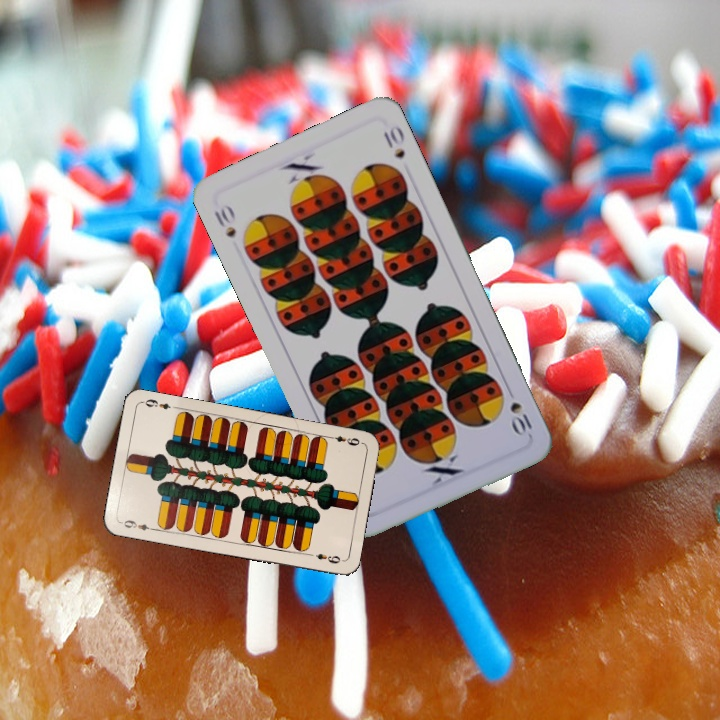E9: (324, 431, 365, 448), (117, 516, 157, 533)
S10: (502, 382, 535, 439), (210, 200, 239, 241)
